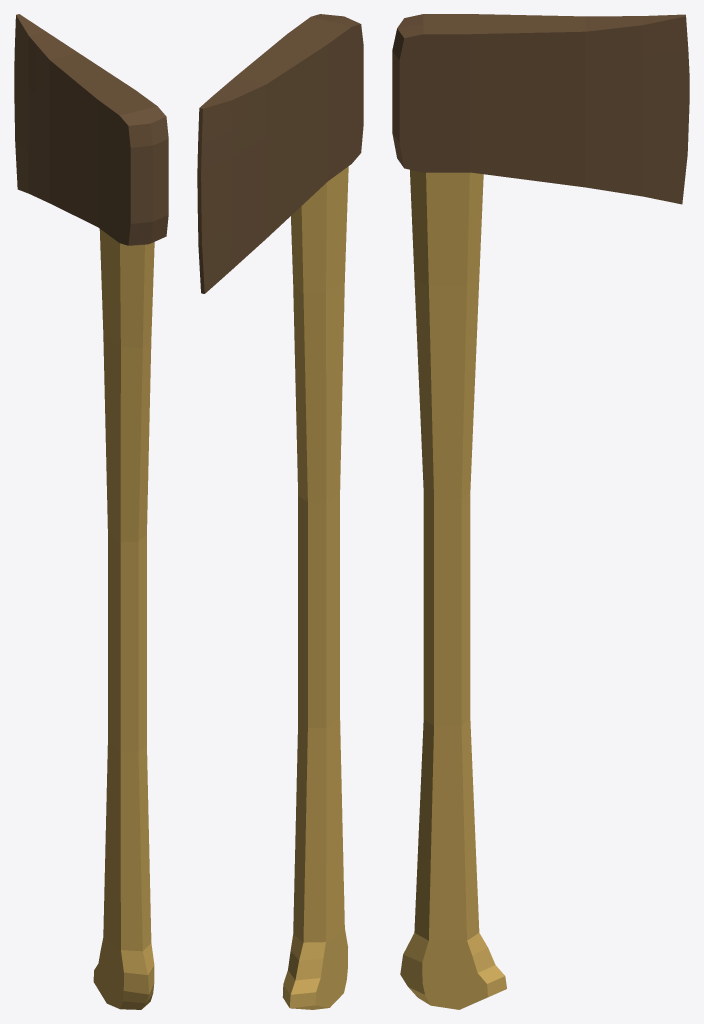
The model's file is Woodcutter Axe.fbx.
3 views of the same model, side by side, from view 1: azimuth 30°, elevation 25°; view 2: azimuth 150°, elevation 25°; view 3: azimuth 270°, elevation 25° (orthographic). The views are drawn at different scales.
Visible parts, largest first — view 1: Melee Woodcutting Axe; view 2: Melee Woodcutting Axe; view 3: Melee Woodcutting Axe.
Part boxes in pixels (x1=…): Melee Woodcutting Axe: x1=14, y1=14, x2=168, y2=1009; Melee Woodcutting Axe: x1=197, y1=14, x2=363, y2=1009; Melee Woodcutting Axe: x1=392, y1=14, x2=689, y2=1009.
Size of the model in its own units: 20 by 459 by 125.
